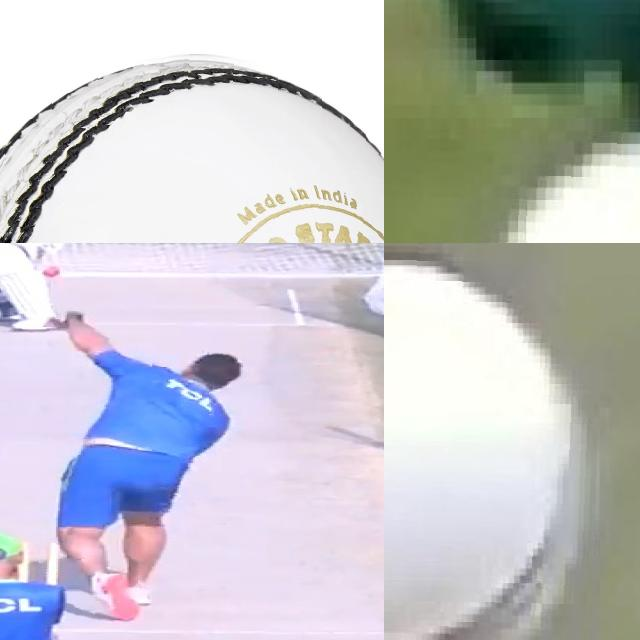Cricket ball: (384, 243, 605, 640), (0, 49, 384, 243), (460, 119, 640, 243), (39, 264, 64, 280)
